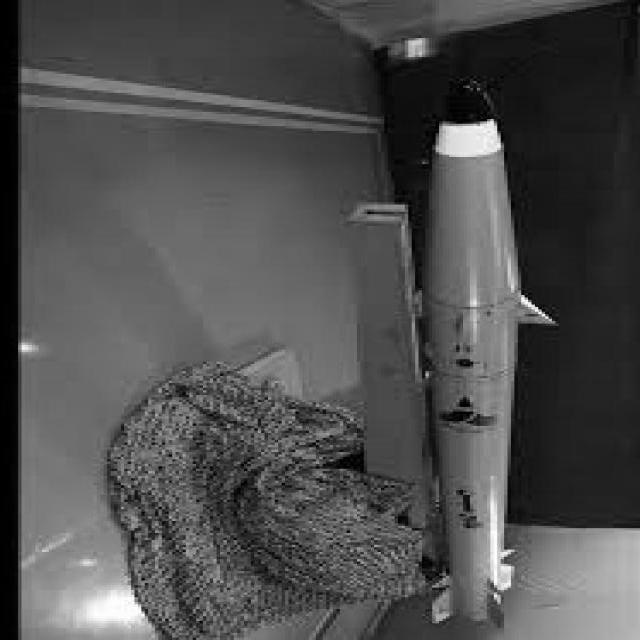Missile: (415, 86, 532, 634)
